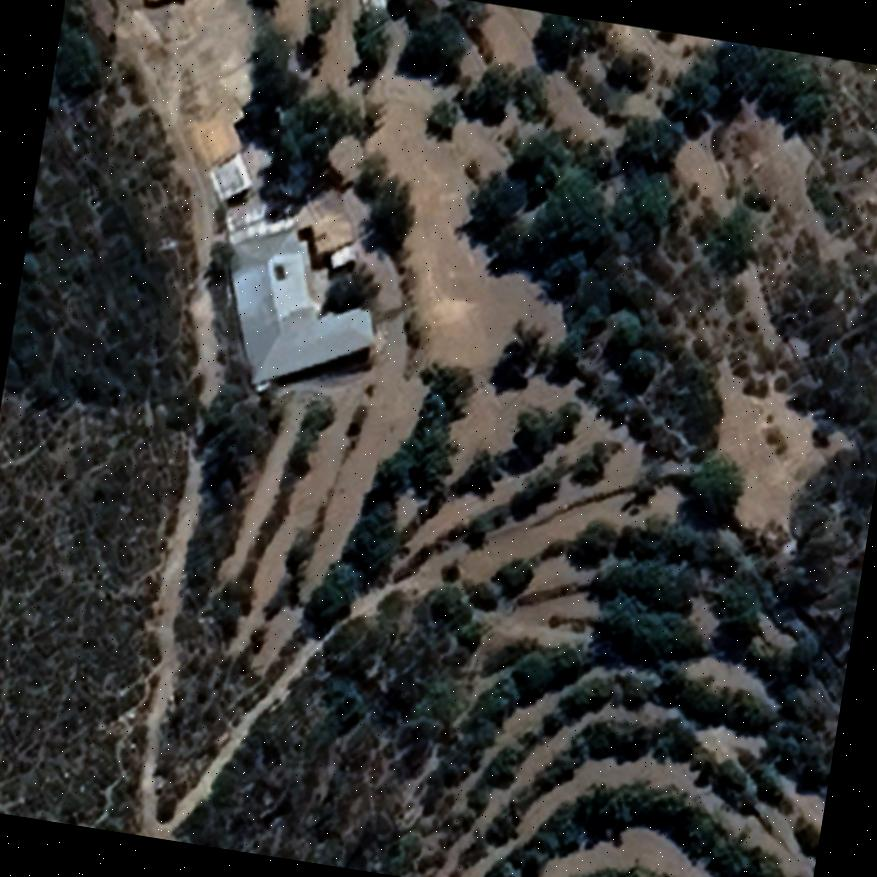Solarpanel: (268, 258, 290, 284)
